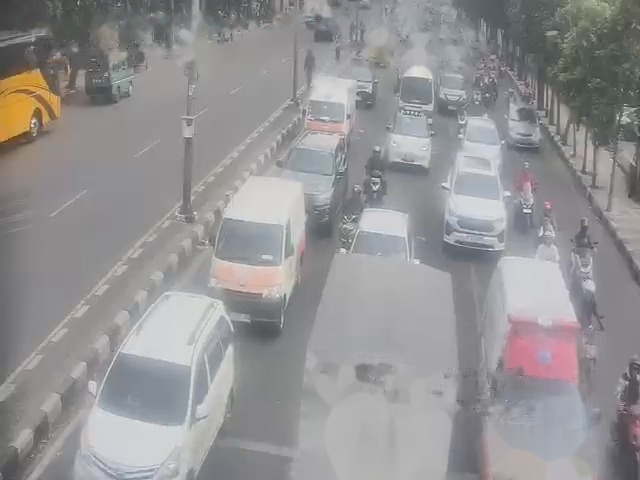Mobil: (89, 285, 228, 475), (485, 258, 580, 471), (215, 179, 303, 307), (279, 126, 341, 219), (448, 156, 505, 254), (343, 207, 419, 262), (385, 103, 430, 172), (87, 50, 133, 94), (356, 66, 375, 108)
Motor: (570, 242, 603, 330), (611, 404, 639, 477), (579, 325, 597, 398), (339, 214, 357, 250), (536, 217, 556, 244), (519, 188, 531, 229), (370, 170, 383, 201), (457, 106, 467, 133), (217, 28, 232, 43), (482, 91, 494, 109), (473, 90, 481, 105)
Truk: (286, 254, 475, 479), (0, 30, 63, 143)
